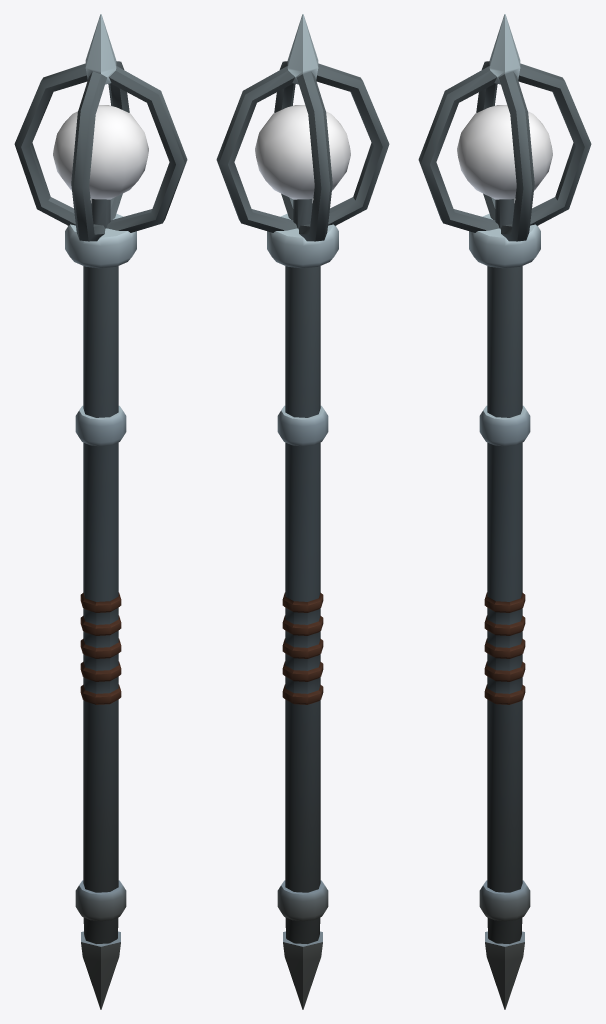
File: staff_iron.glb
The picture shows the model from 3 angles, left to right: view 1: azimuth 30°, elevation 25°; view 2: azimuth 150°, elevation 25°; view 3: azimuth 330°, elevation 25°; orthographic projection.
Visible parts, largest first — view 1: Item; view 2: Item; view 3: Item.
Part boxes in pixels (x1,y1,x2,y2): Item: (14,14,187,1009); Item: (216,14,389,1009); Item: (418,14,591,1009).
Bounding box in the file's own units: 0.3112 × 2.6 × 0.3112.
3 materials, 3 textured.
